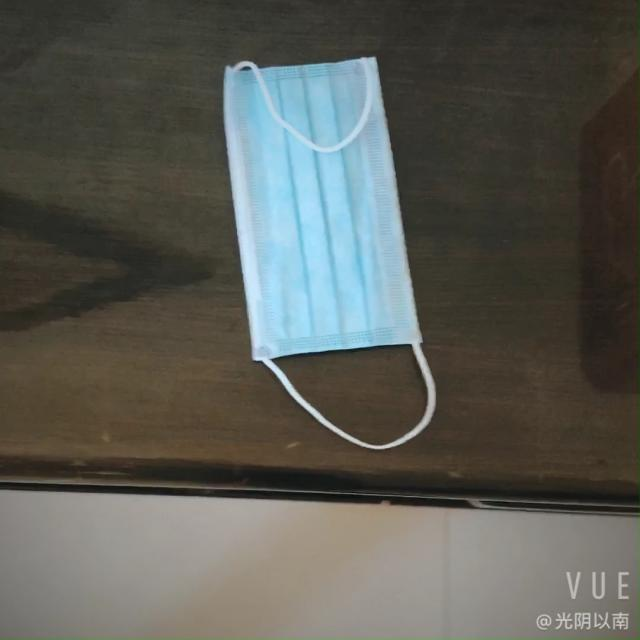face mask: (200, 41, 449, 386)
